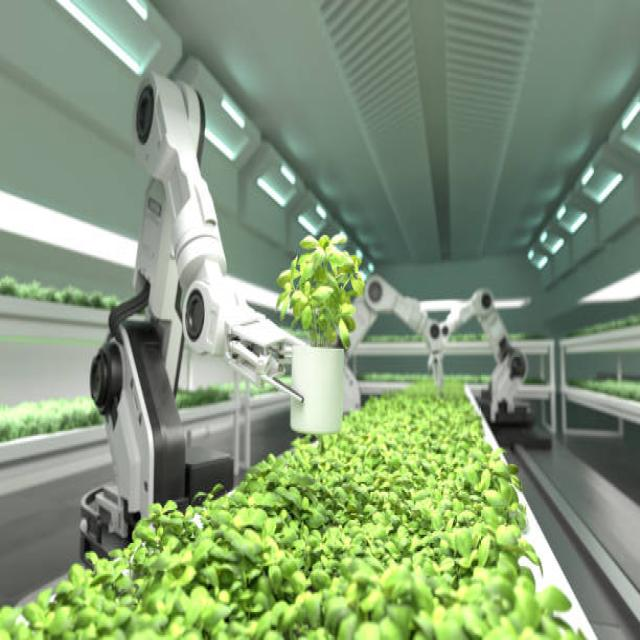Robotic-arm: (79, 66, 309, 555), (438, 282, 535, 436), (351, 270, 443, 390)
